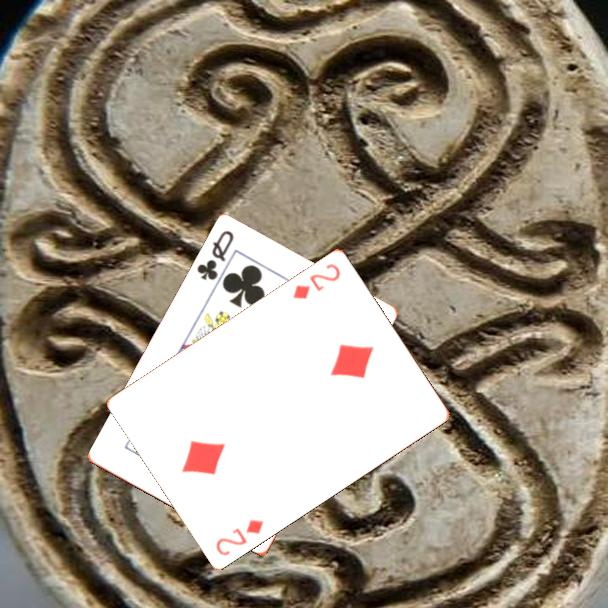c12: (193, 227, 237, 284)
d02: (212, 515, 267, 558), (289, 259, 343, 302)
